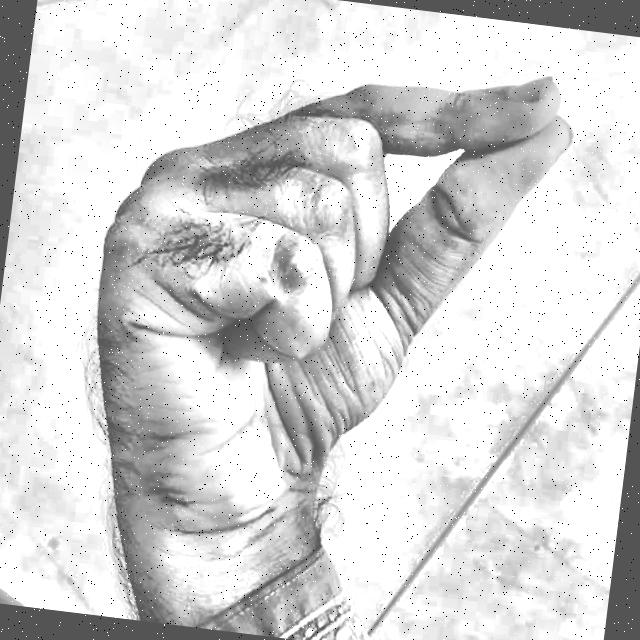Anusshar: (39, 0, 592, 616)
